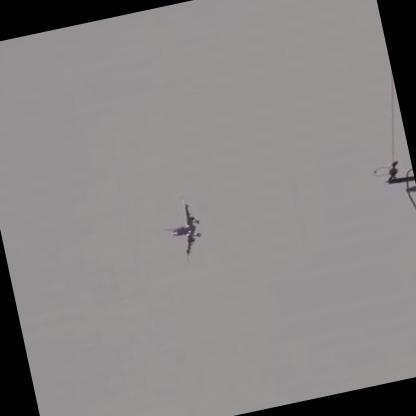plane: (156, 192, 209, 265)
